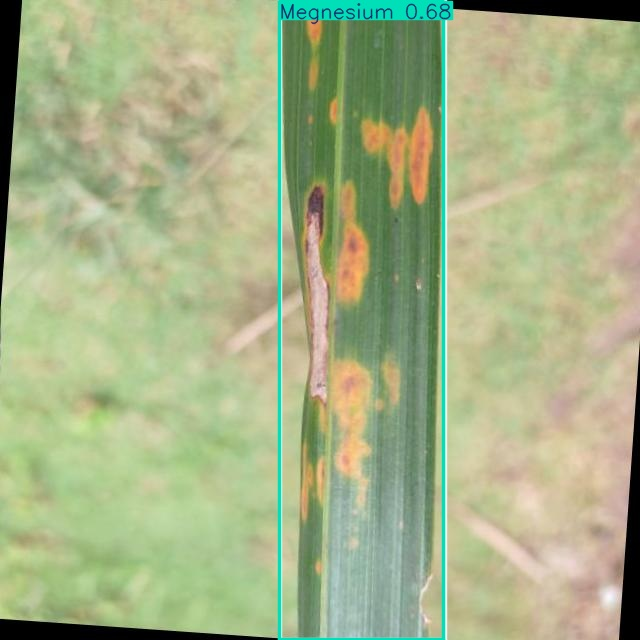Kalium: (280, 0, 446, 640)
Megnesium: (280, 1, 444, 640)
